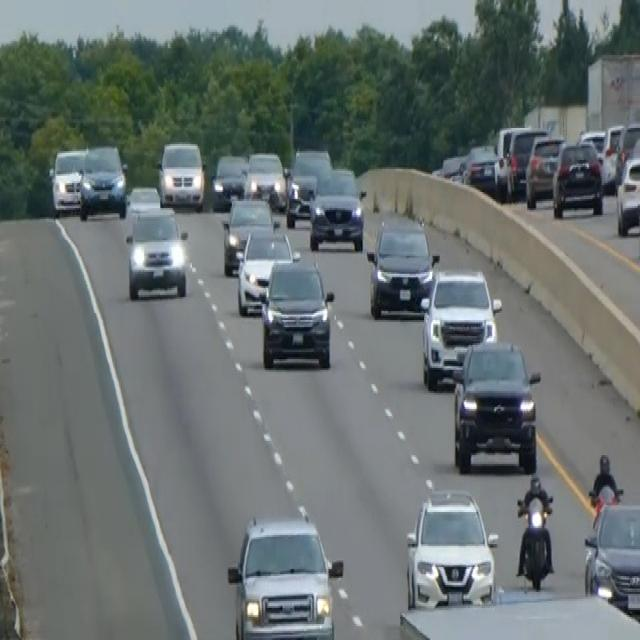car: (226, 512, 343, 638), (404, 485, 498, 610), (419, 265, 501, 389), (259, 254, 334, 370), (366, 212, 438, 318), (582, 496, 639, 617), (125, 202, 188, 300), (235, 222, 295, 315), (308, 165, 365, 252), (221, 194, 275, 276), (551, 137, 604, 219), (493, 123, 547, 199), (78, 142, 127, 220), (285, 147, 331, 225), (157, 137, 205, 210), (524, 133, 564, 208), (244, 149, 287, 210), (50, 146, 87, 215), (211, 151, 248, 210), (615, 151, 639, 235), (461, 142, 498, 194), (126, 181, 161, 217), (434, 151, 466, 181)
jeep: (451, 336, 541, 475)
motorcycle: (514, 491, 555, 592)
